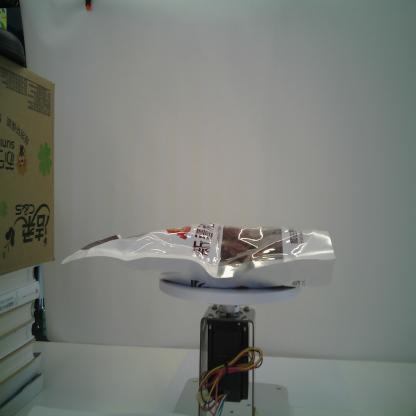Dried Food: (59, 222, 336, 291)
